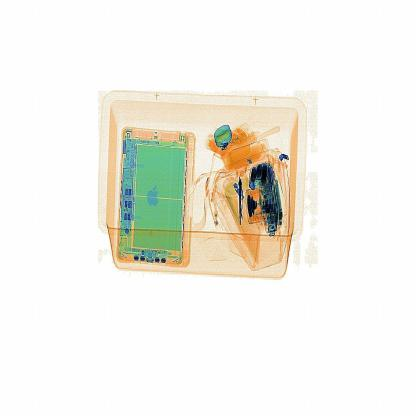knife: (233, 172, 250, 239)
